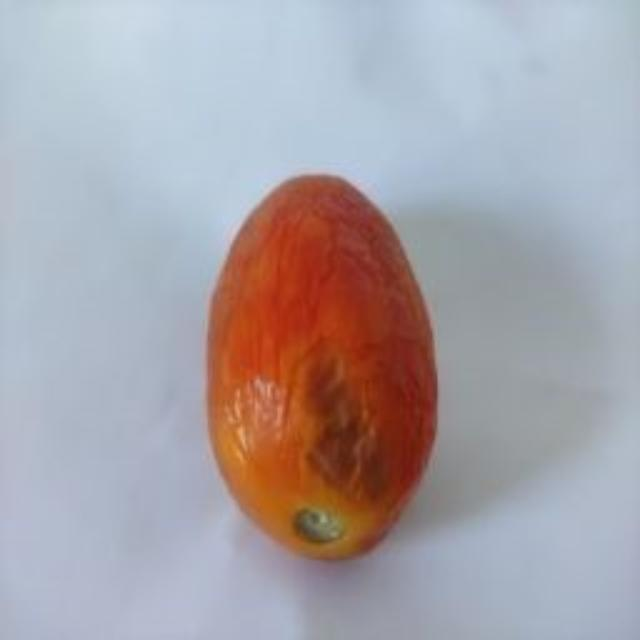defect: (200, 170, 441, 567)
